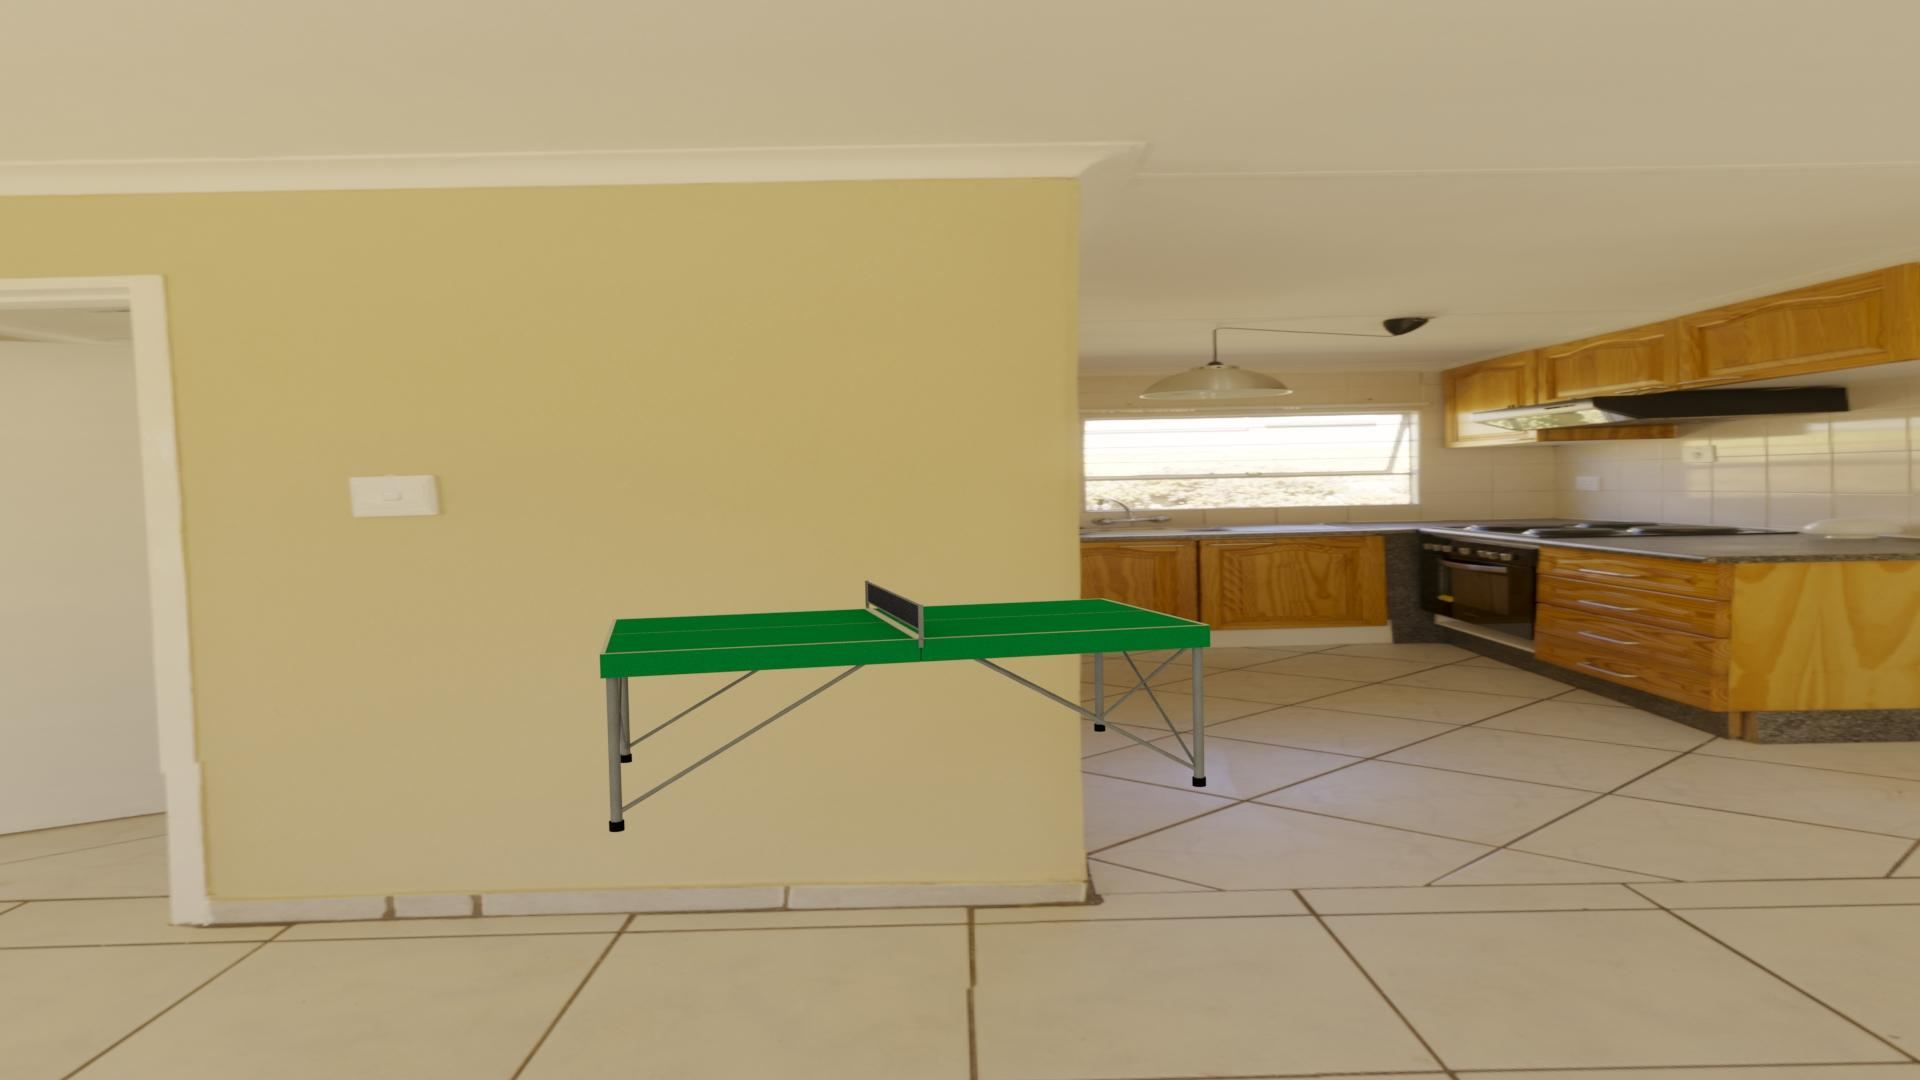table: (605, 599, 1204, 654)
